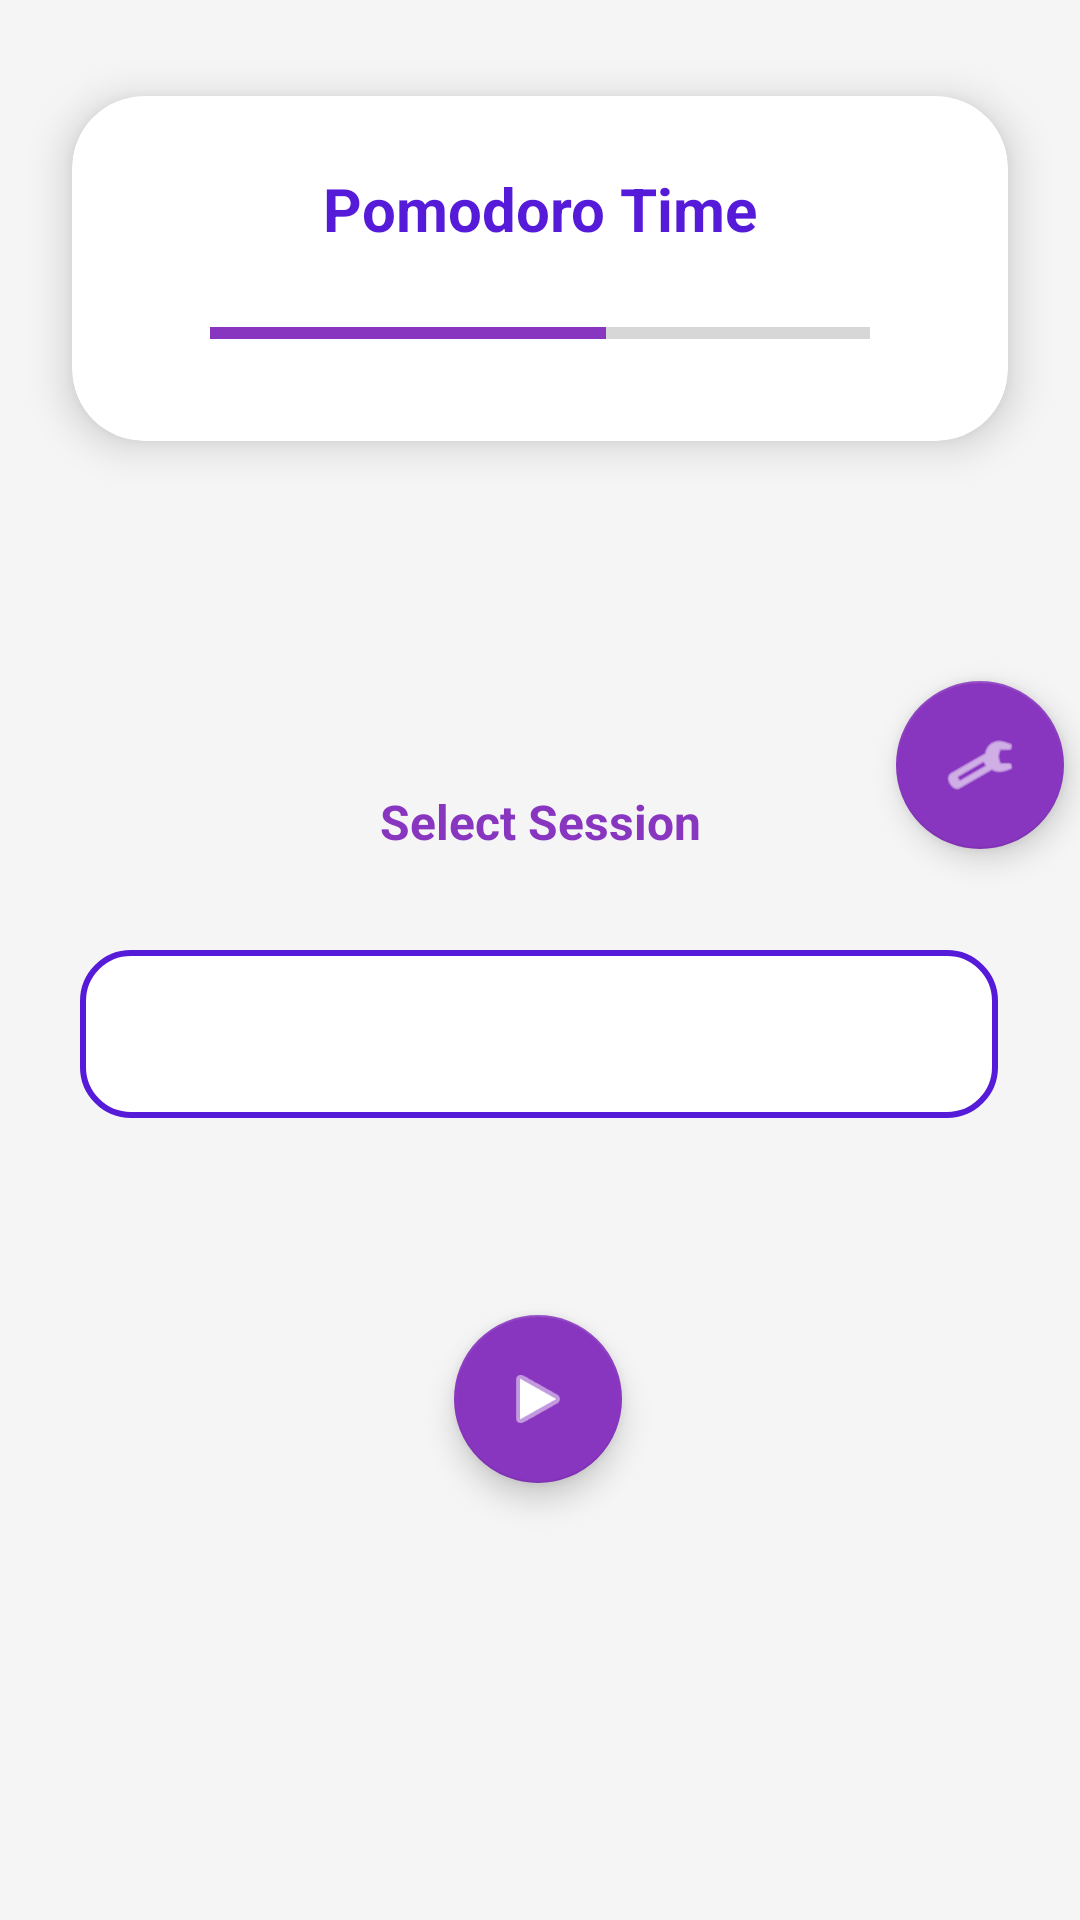

Where icons sit on this 1080px×1920px app screen, as (x1, y1, x2, y2):
preferences: (896, 681, 1064, 849)
start pomodoro timer: (454, 1315, 622, 1483)
